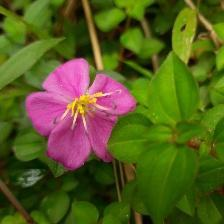malabar melastome: (25, 60, 139, 172)
